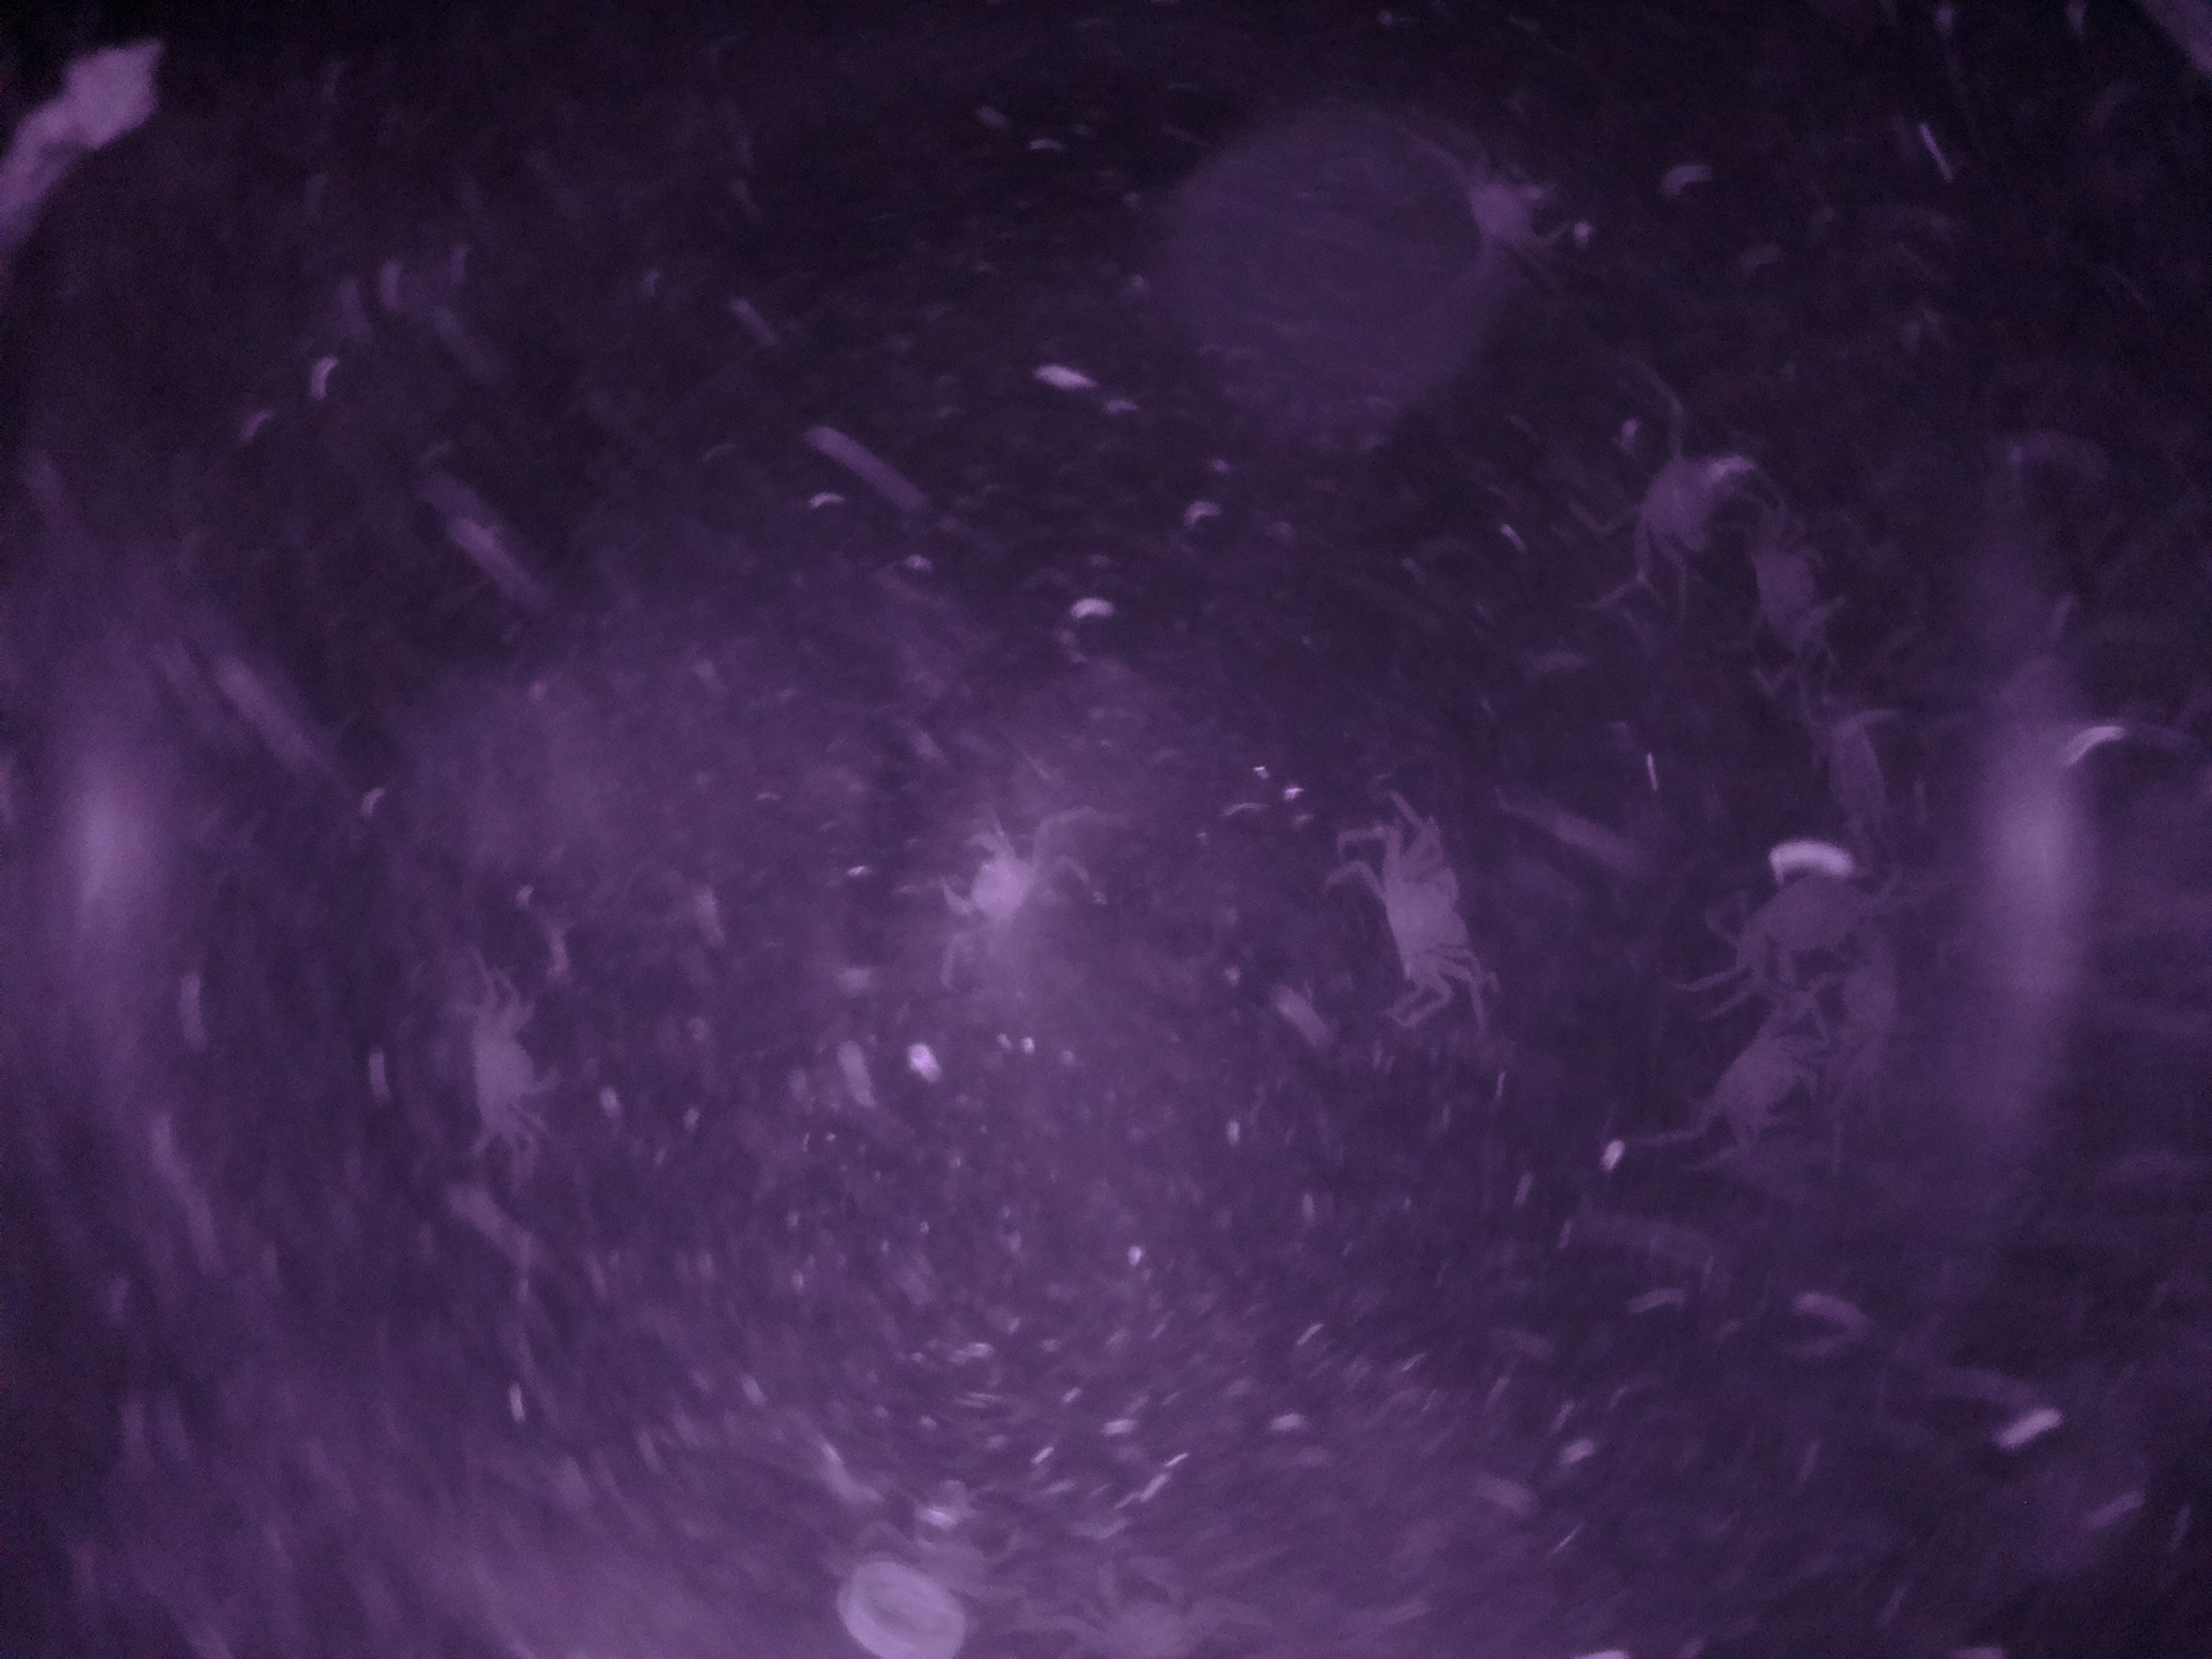Crab: (1345, 816, 1503, 1019)
